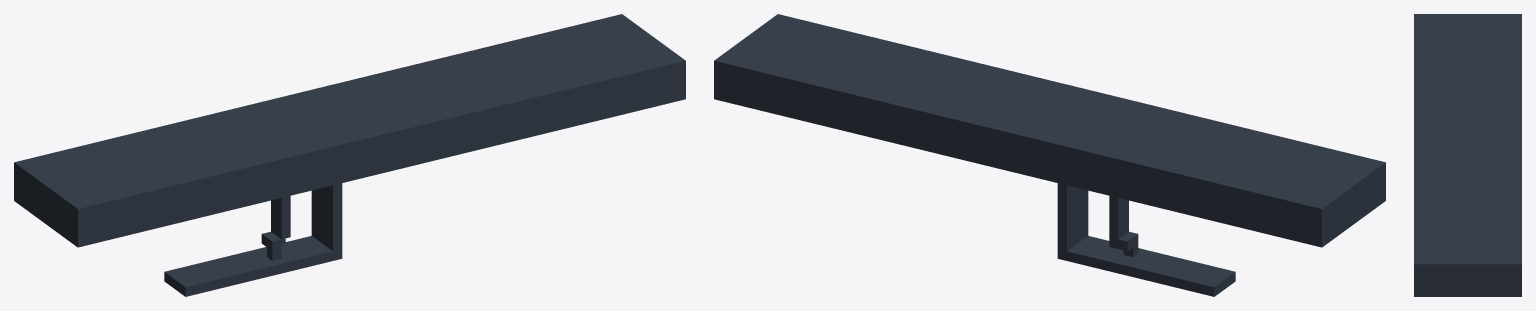
File: lower_ak.glb
3 renders of one model, left to right at view 1: azimuth 30°, elevation 25°; view 2: azimuth 150°, elevation 25°; view 3: azimuth 270°, elevation 25°, orthographic. The views are drawn at different scales.
Parts seen in each view (by area): view 1: lower_ak:lower; view 2: lower_ak:lower; view 3: lower_ak:lower.
Boxes of the visible parts, x1,y1,x2,y2 form: lower_ak:lower: (14, 14, 685, 296); lower_ak:lower: (714, 14, 1385, 296); lower_ak:lower: (1414, 14, 1521, 296).
Size of the model in its own units: 0.264 by 0.056 by 0.048.
